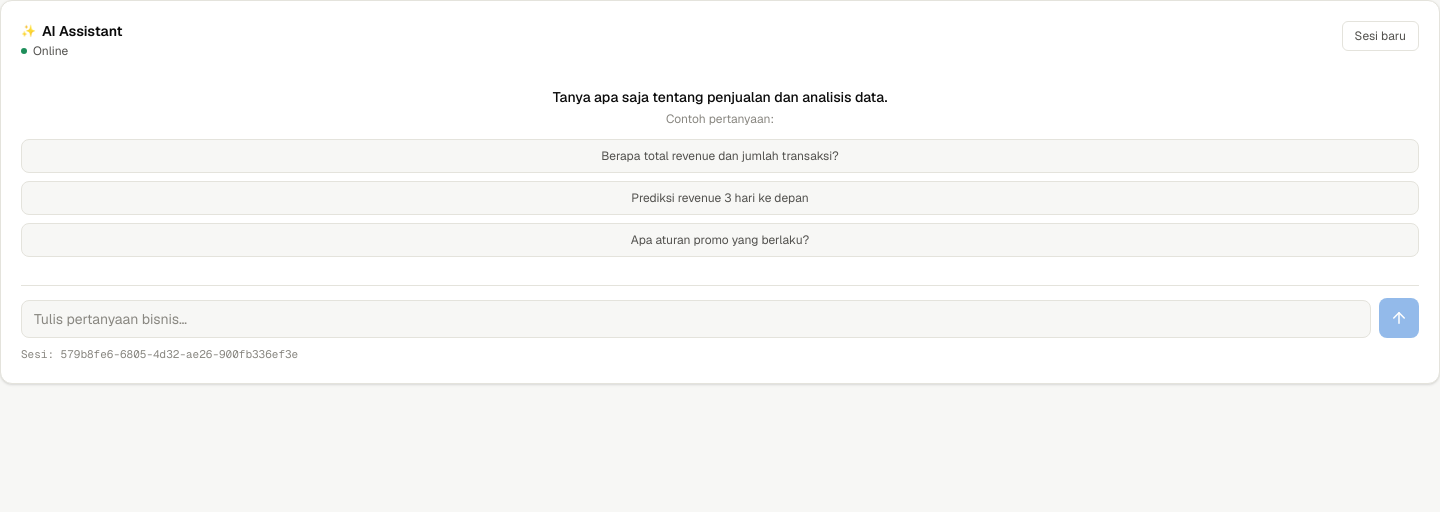
Test: ChatPanel › jawaban assistant dirender Markdown (bold/tabel/list/kode); pesan user tetap teks polos
The image size is (1440, 512).
In the field named "Pertanyaan untuk AI assistant": (696, 319) [21,300,1371,338], type "saya **user** biasa"
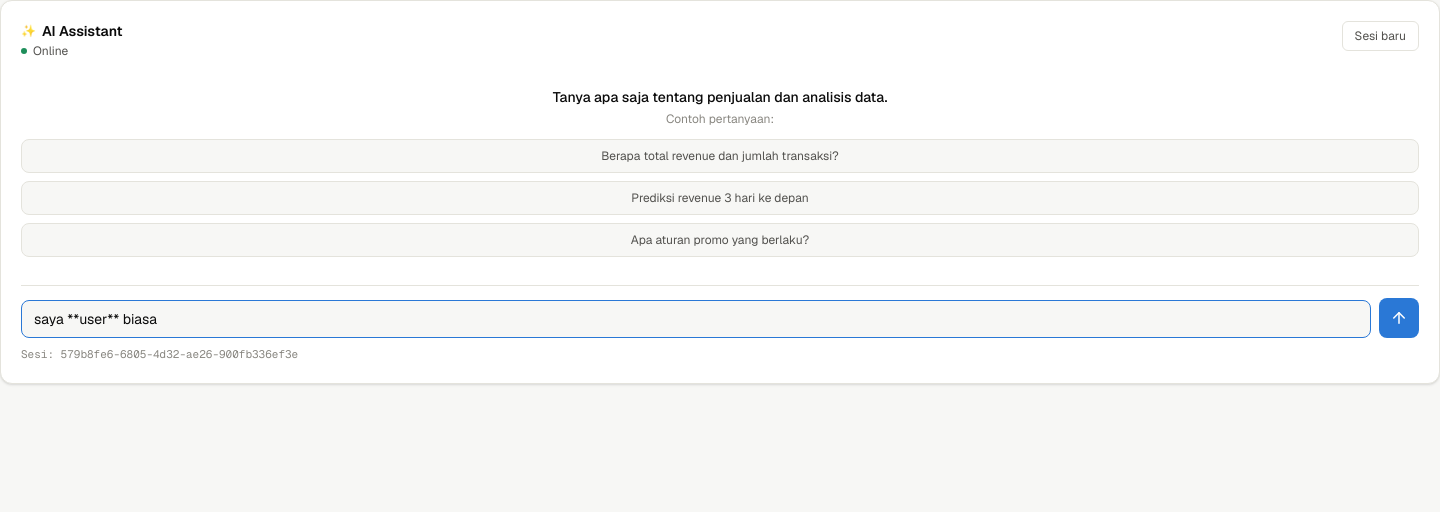
Click the button named "Kirim": (1399, 318) [1379,298,1419,338]
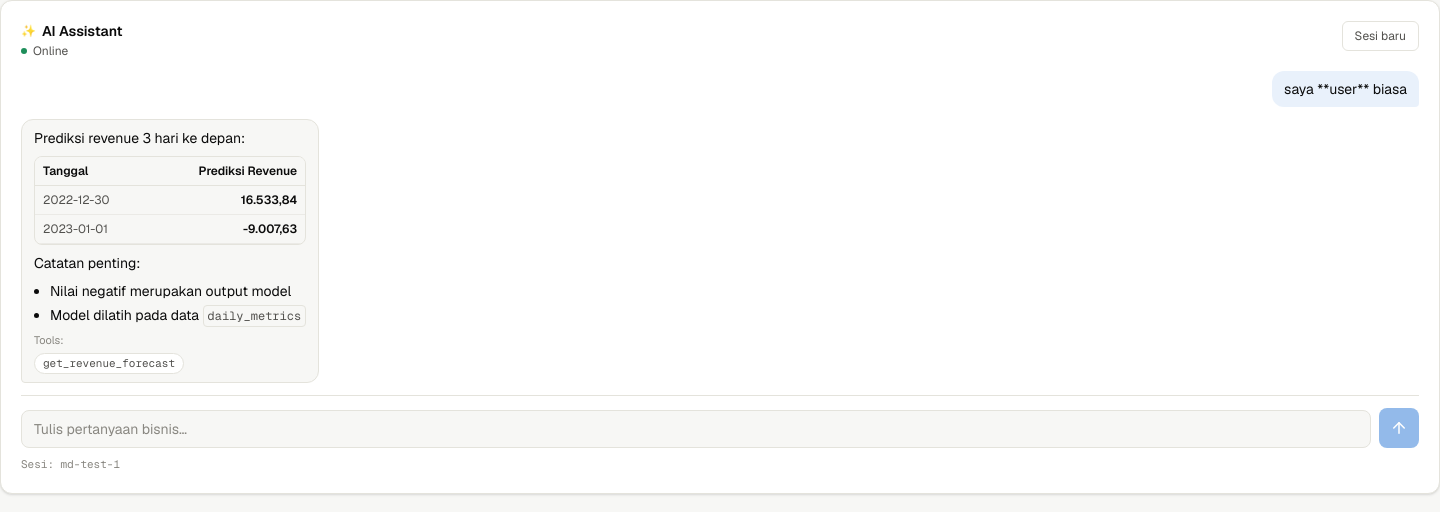
Expected: the table is shown, [35,157,305,244]
Expected: the column heading "Tanggal" is shown, [35,157,148,186]
Expected: the cell "2022-12-30" is shown, [35,186,148,214]
